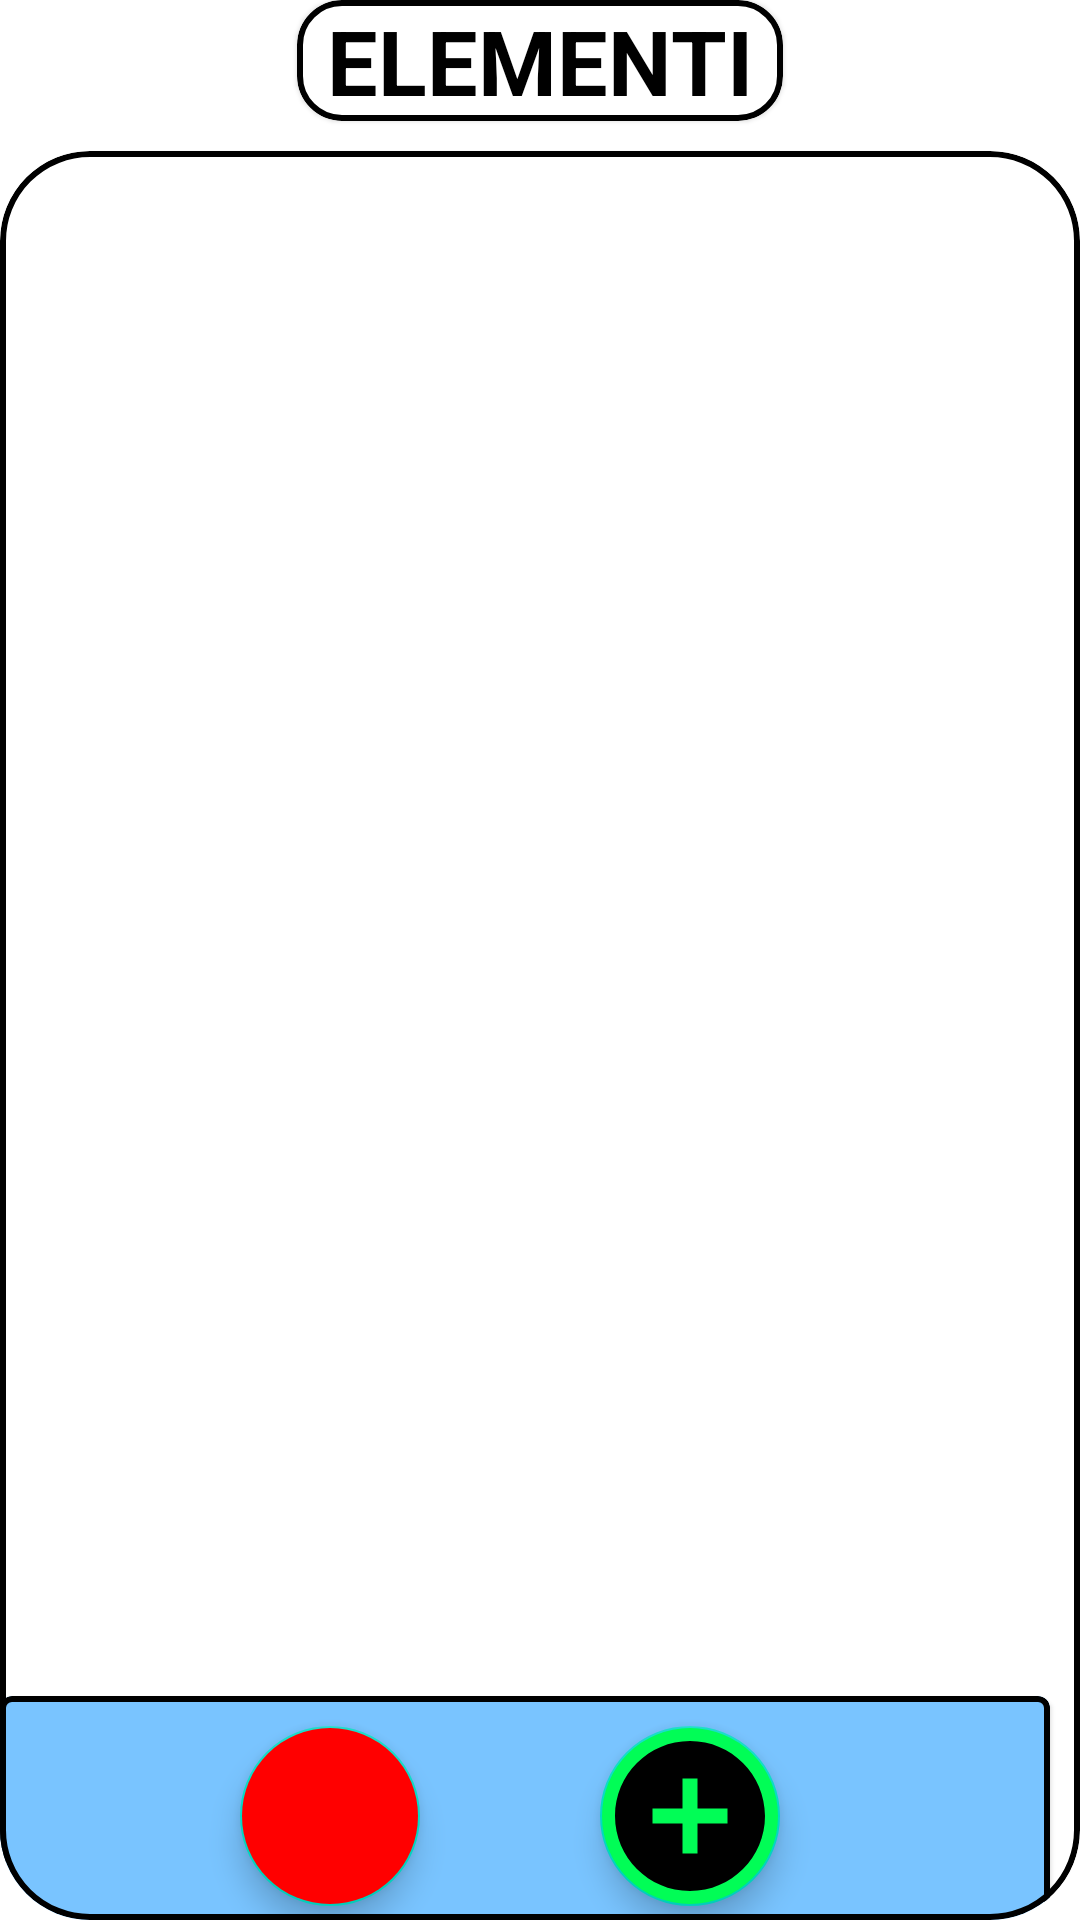

Locate icon controls on the screen. Image size 1080x1920, boxes as {"left": x1, "top": y1, "right": x2, "bottom": y2}.
add circle: {"left": 600, "top": 1726, "right": 780, "bottom": 1906}
